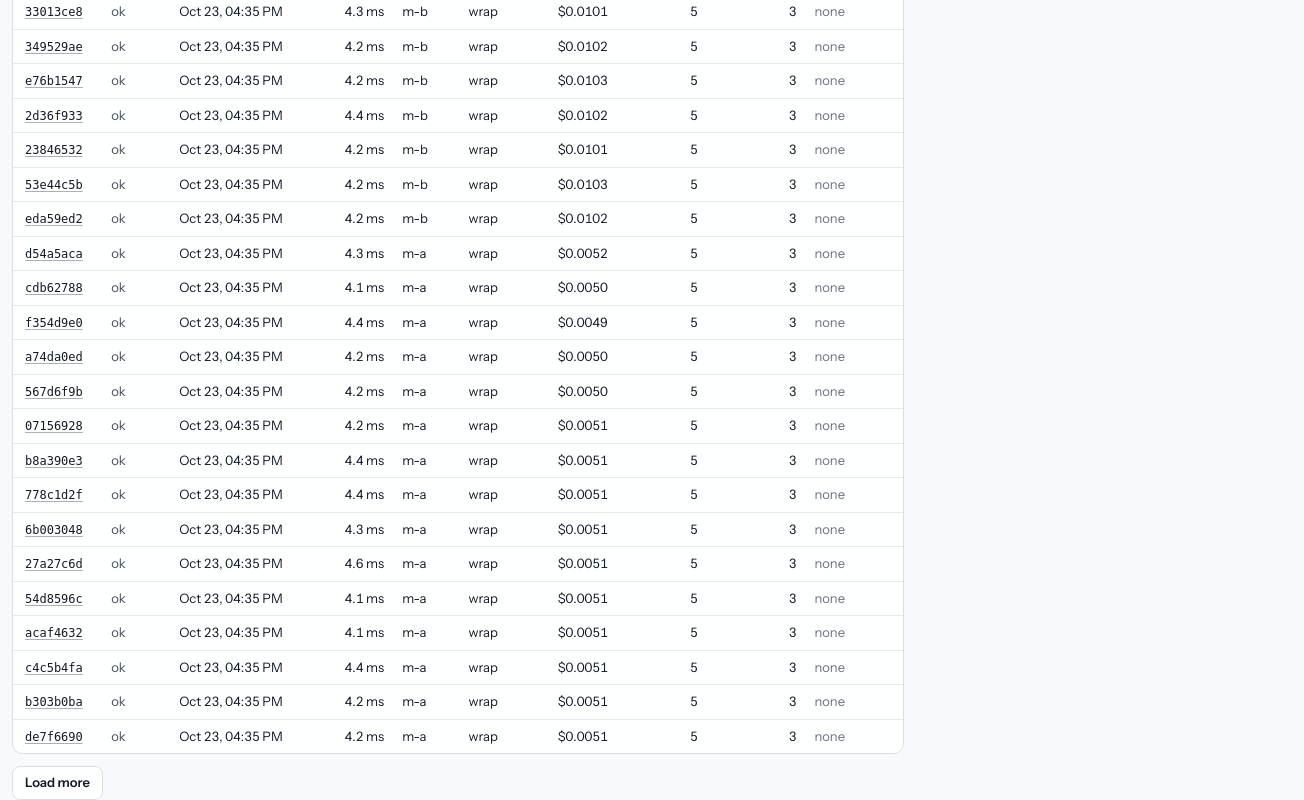
Test case: Workflow › runs table loads more with cursor
(page scrolled)
Click the button "Load more" at (57, 783), box [12,766,103,799]
(page scrolled)
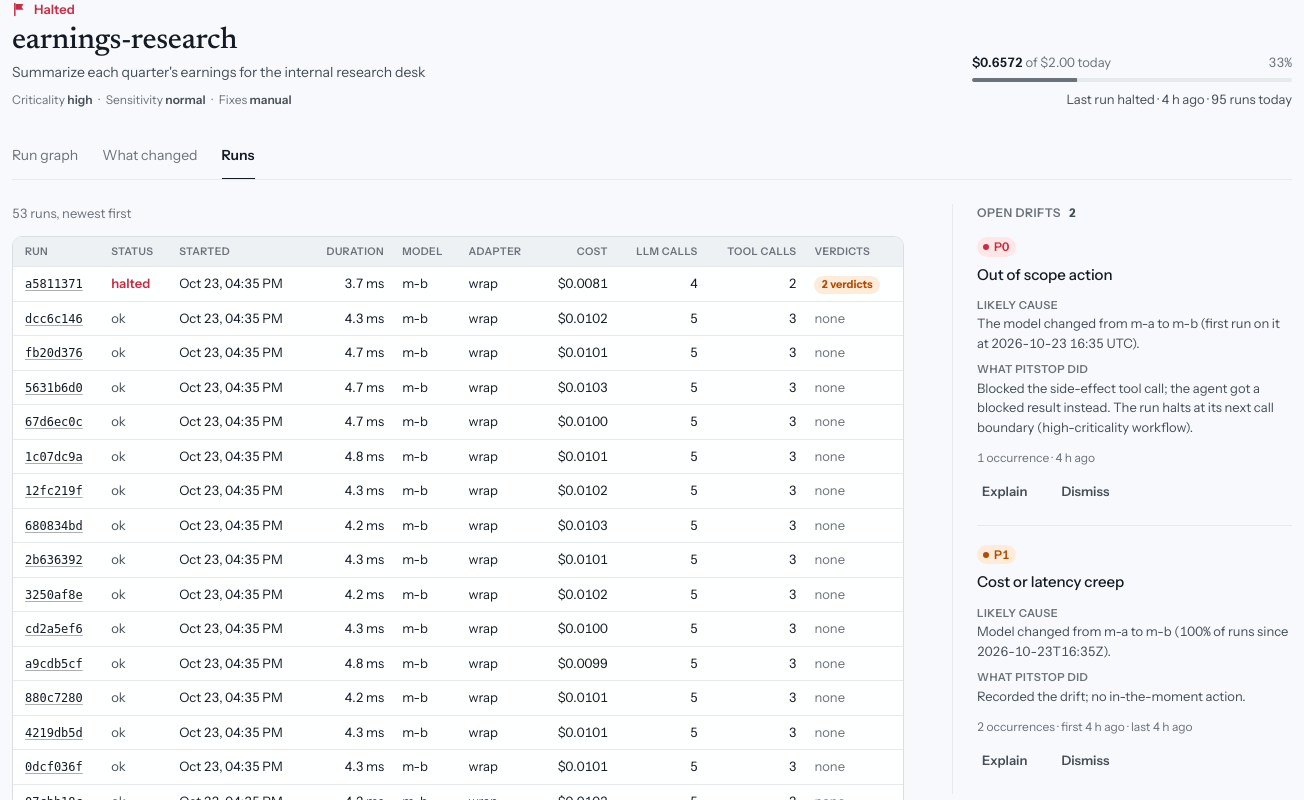
Check: the button "Load more" is gone
Check: the text "53 runs, newest first" is shown, box [12,205,131,221]
